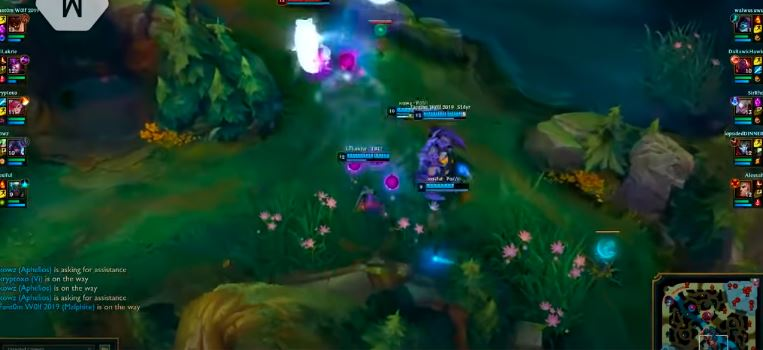bar: (418, 179, 474, 194), (335, 149, 393, 163), (386, 104, 446, 117), (414, 107, 470, 120), (275, 1, 335, 8)
